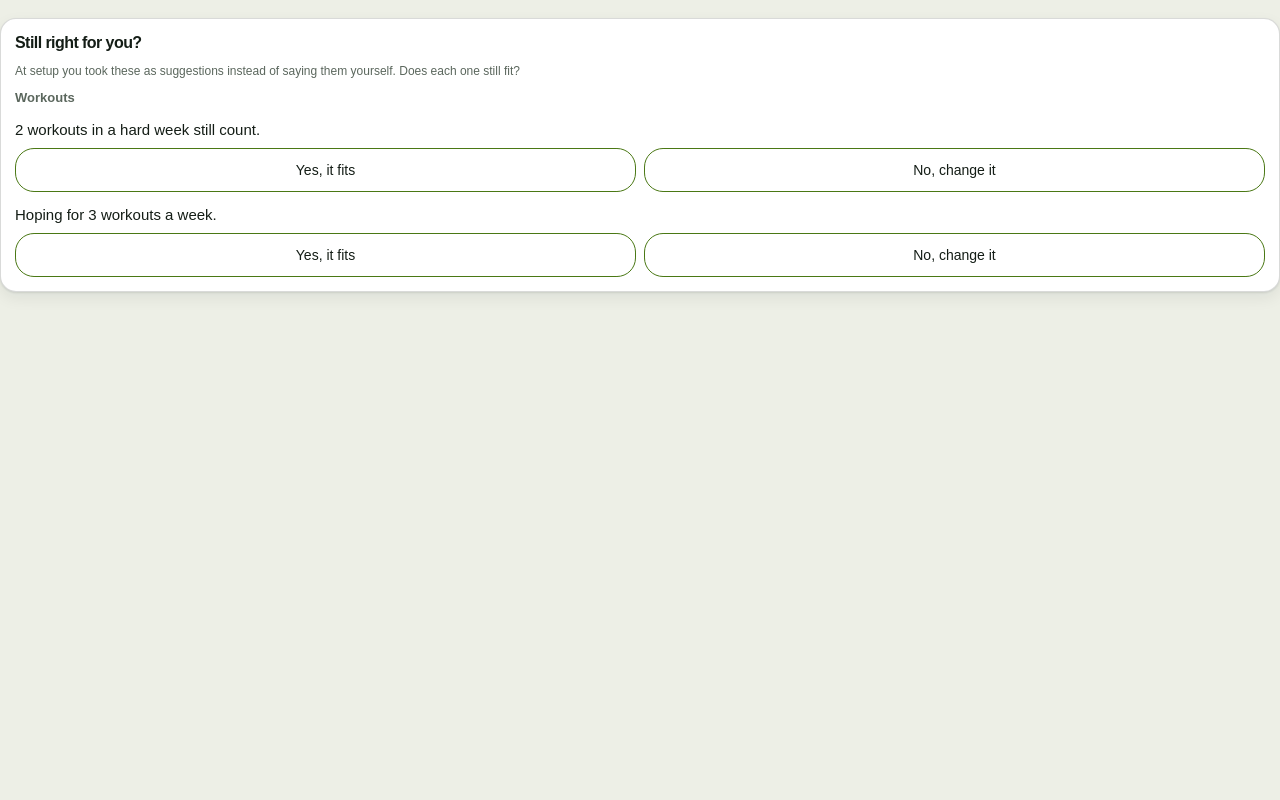
Test: the finish › marks the chosen answer with a check mark as well as its colour, one per row, and lets the person take it back
The image size is (1280, 800).
Click the radio button labelled "Yes, it fits" below "2 workouts in a hard week still count." at (326, 170), box [15,148,636,192]
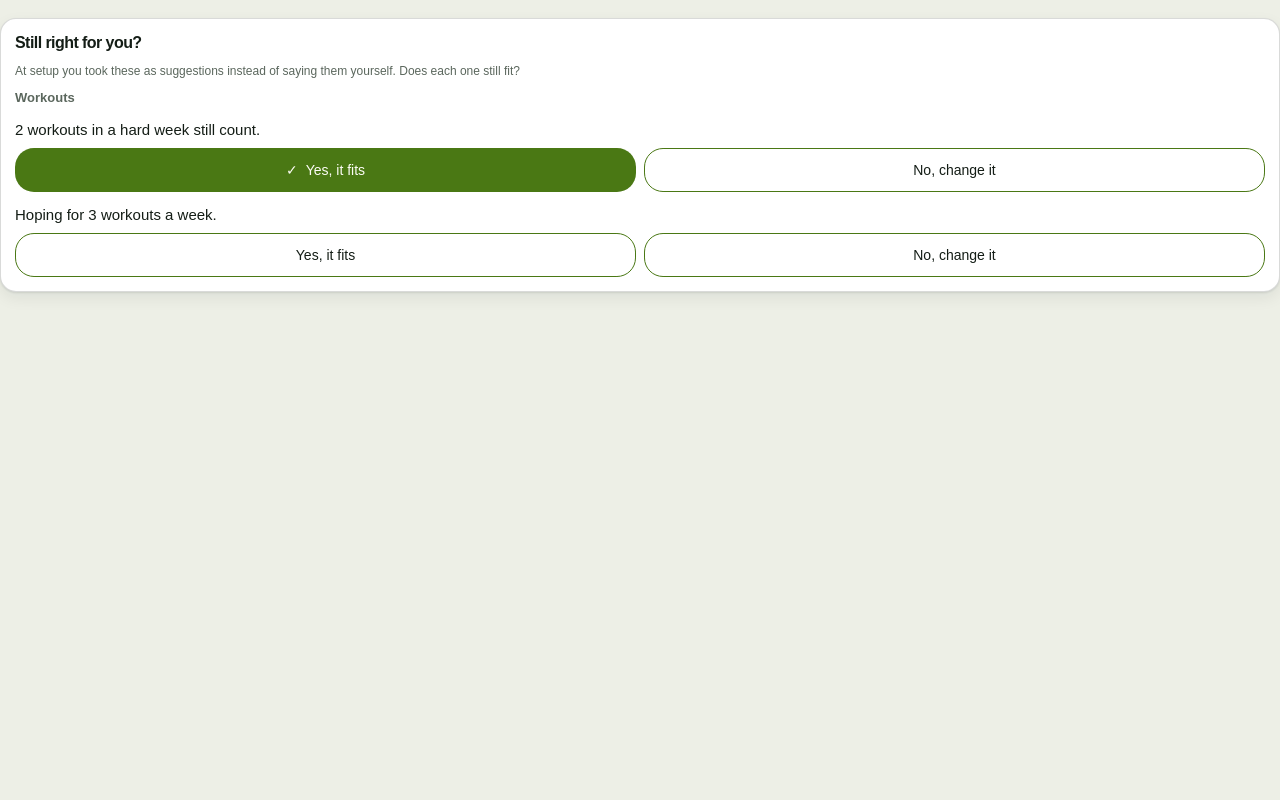
Expected: the radio button labelled "✓ Yes, it fits" is shown, [15,148,636,192]
Click the 1st radio button labelled "No, change it" at (954, 170), box [644,148,1265,192]
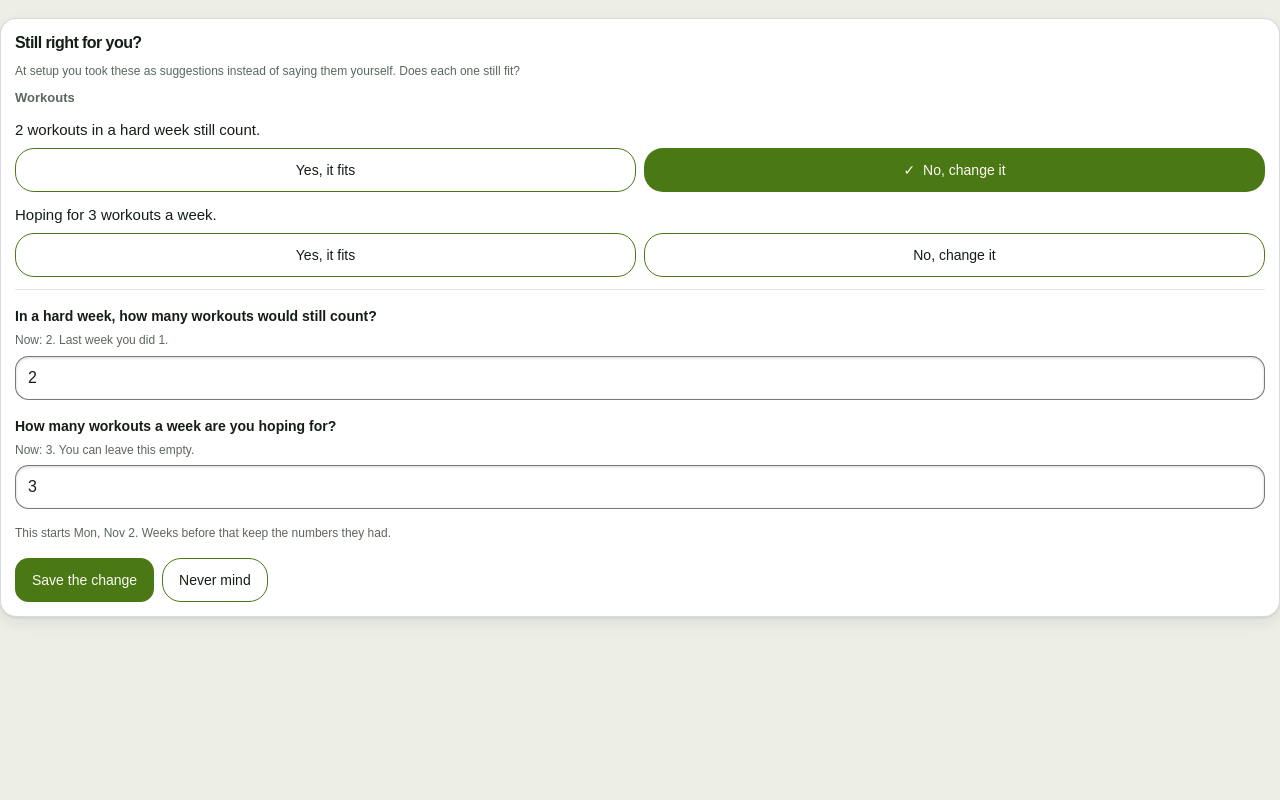
Expected: the radio button labelled "✓ No, change it" is shown, [644,148,1265,192]
